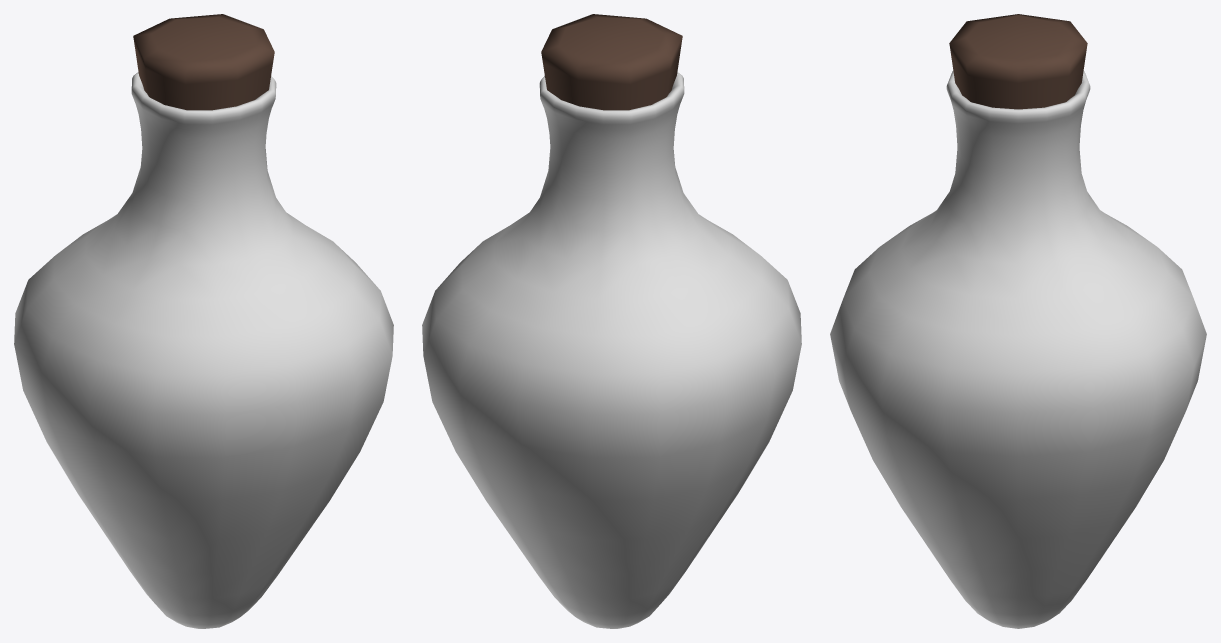
Rendered from potion-2.glb.
3 renders of one model, left to right at view 1: azimuth 30°, elevation 25°; view 2: azimuth 150°, elevation 25°; view 3: azimuth 270°, elevation 25°, orthographic.
Parts seen in each view (by area): view 1: Potion4_Filled; view 2: Potion4_Filled; view 3: Potion4_Filled.
Boxes of the visible parts, box(x1,y1,x2,y2) form: Potion4_Filled: box(14, 14, 393, 628); Potion4_Filled: box(422, 14, 801, 628); Potion4_Filled: box(830, 14, 1206, 628).
Size of the model in its own units: 0.7186 by 1.24 by 0.7186.
